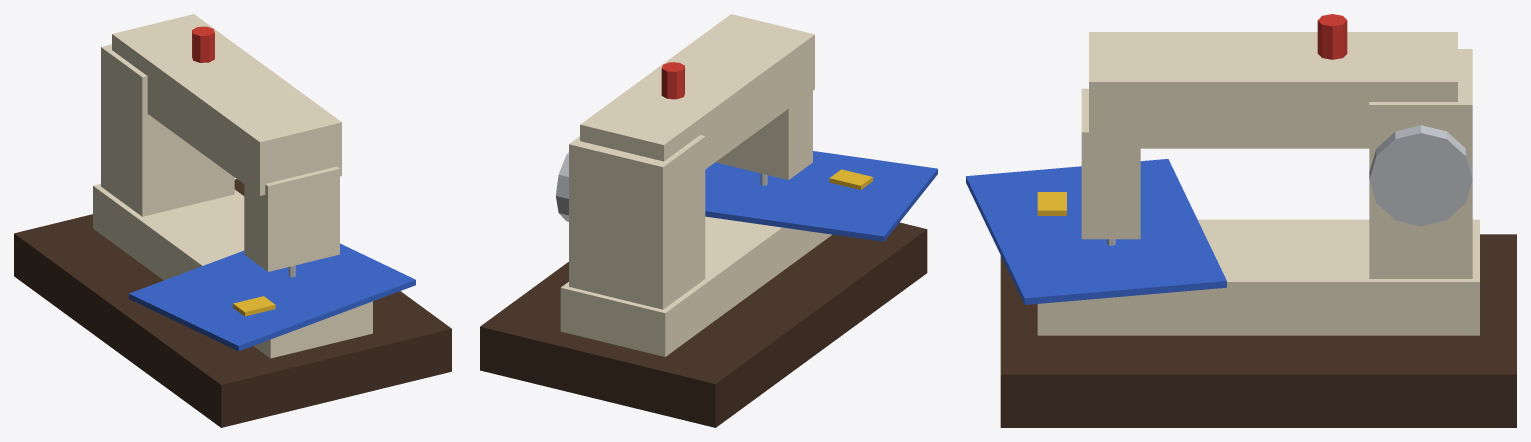
File: sewing_machine.glb
3 views of the same model, side by side, from view 1: azimuth 30°, elevation 25°; view 2: azimuth 150°, elevation 25°; view 3: azimuth 270°, elevation 25° (orthographic). The views are drawn at different scales.
Visible parts, largest first — view 1: body_sewing_cream, base_sewing_wood, cloth_sewing_cloth, spool_sewing_thread, cloth_sewing_tag; view 2: body_sewing_cream, base_sewing_wood, cloth_sewing_cloth, spool_sewing_thread, wheel_sewing_steel, cloth_sewing_tag; view 3: body_sewing_cream, base_sewing_wood, cloth_sewing_cloth, wheel_sewing_steel, spool_sewing_thread, cloth_sewing_tag.
Boxes of the visible parts, <box> form: body_sewing_cream: <box>93,14,372,358</box>; base_sewing_wood: <box>14,179,451,427</box>; cloth_sewing_cloth: <box>129,243,415,351</box>; spool_sewing_thread: <box>192,26,214,62</box>; cloth_sewing_tag: <box>233,296,275,316</box>; body_sewing_cream: <box>560,14,831,356</box>; base_sewing_wood: <box>480,222,927,427</box>; cloth_sewing_cloth: <box>705,151,937,241</box>; spool_sewing_thread: <box>661,62,684,99</box>; wheel_sewing_steel: <box>555,152,568,221</box>; cloth_sewing_tag: <box>829,169,872,189</box>; body_sewing_cream: <box>1037,32,1479,335</box>; base_sewing_wood: <box>1000,234,1516,427</box>; cloth_sewing_cloth: <box>966,159,1226,304</box>; wheel_sewing_steel: <box>1369,125,1472,226</box>; spool_sewing_thread: <box>1317,14,1347,59</box>; cloth_sewing_tag: <box>1037,192,1066,215</box>.
Size of the model in its own units: 0.4988 by 0.505 by 0.7469.
